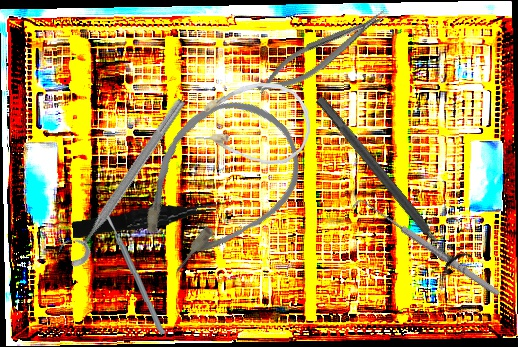Cannula: (107, 76, 323, 296), (192, 79, 313, 166)
Chopper: (98, 210, 166, 337)
Fixation Ring: (305, 87, 474, 278), (52, 88, 192, 271)
Hook Surgical: (351, 193, 503, 304)
Needle Holder: (251, 4, 395, 102)
Tissue Forceps: (71, 200, 218, 239)
